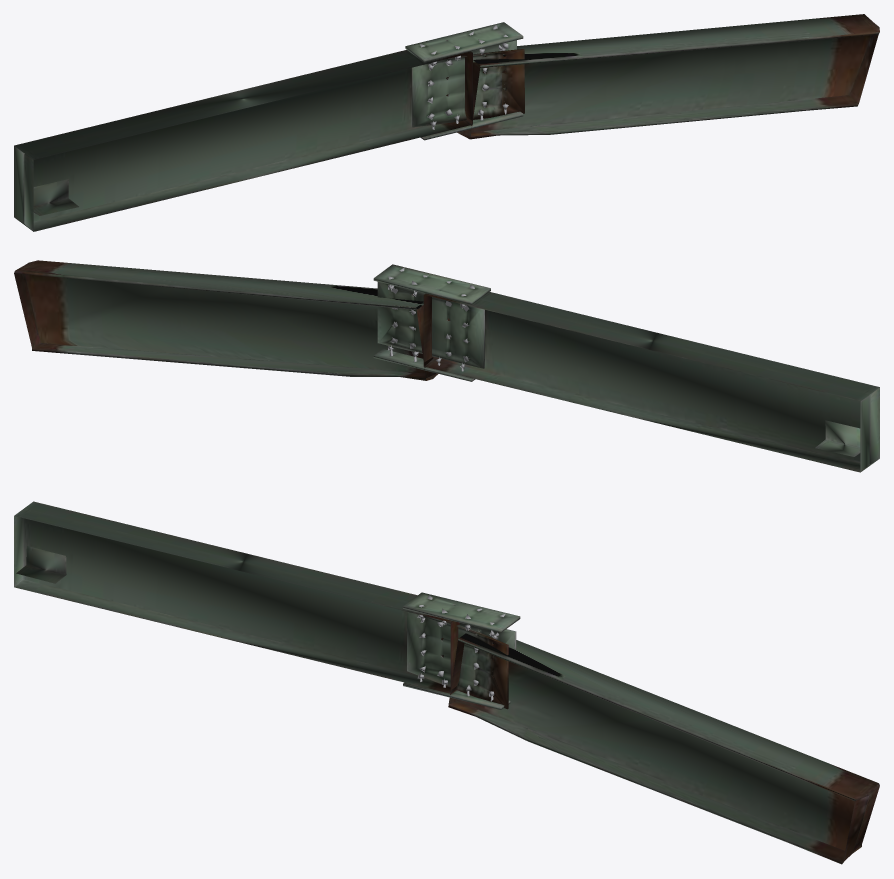
The model's file is industrial_ibeam_bolted_lod2.glb.
3 views of the same model, one above another, from view 1: azimuth 30°, elevation 25°; view 2: azimuth 150°, elevation 25°; view 3: azimuth 330°, elevation 25° (orthographic).
Parts seen in each view (by area): view 1: industrial_ibeam_bolted_paint, industrial_ibeam_bolted_bolt; view 2: industrial_ibeam_bolted_paint, industrial_ibeam_bolted_bolt; view 3: industrial_ibeam_bolted_paint.
Part boxes in pixels (bbox=[...]): industrial_ibeam_bolted_paint: bbox=[14, 14, 879, 231]; industrial_ibeam_bolted_bolt: bbox=[420, 24, 508, 129]; industrial_ibeam_bolted_paint: bbox=[14, 260, 879, 472]; industrial_ibeam_bolted_bolt: bbox=[388, 267, 474, 371]; industrial_ibeam_bolted_paint: bbox=[14, 501, 879, 864].
Bounding box in the file's own units: 4.26 × 0.7597 × 0.2273.
2 materials, 1 textured.
